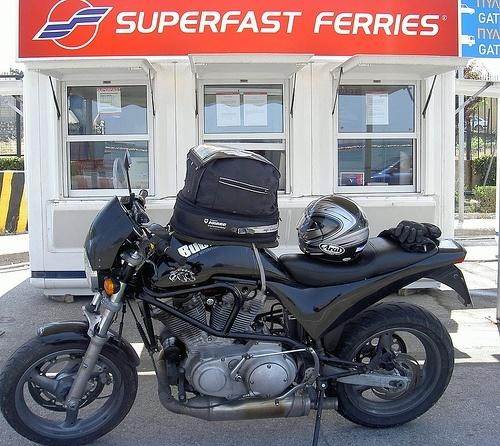motorbike: (1, 147, 474, 446)
